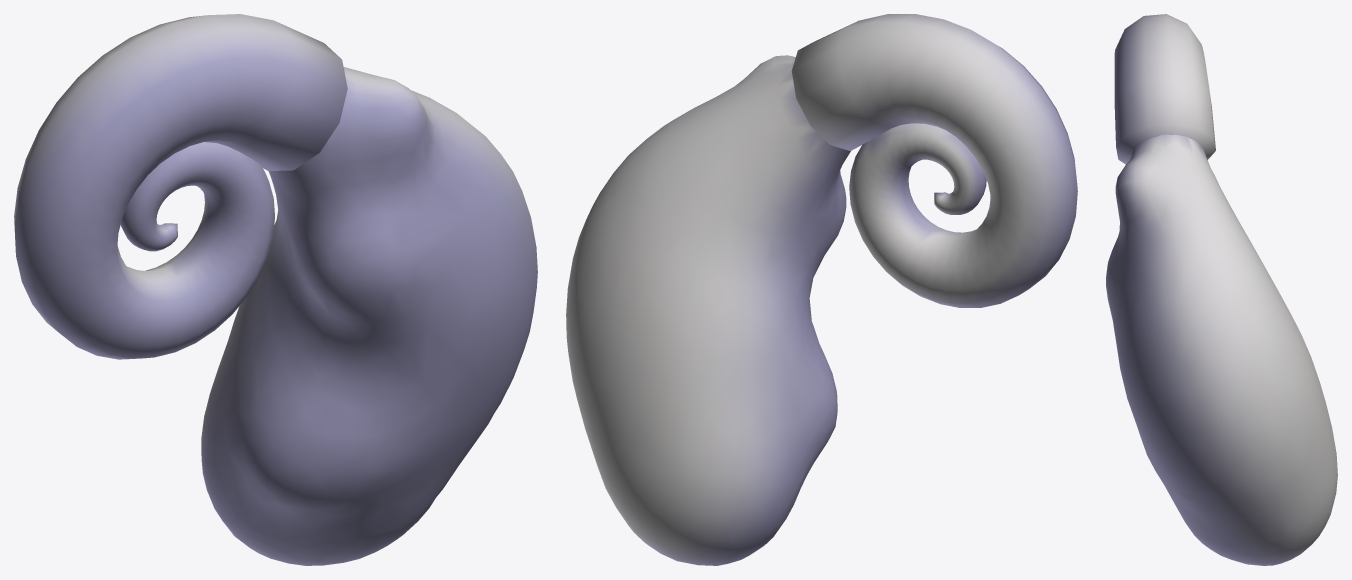
Rendered from gear5_corrente_c.fbx.
The picture shows the model from 3 angles, left to right: view 1: azimuth 30°, elevation 25°; view 2: azimuth 150°, elevation 25°; view 3: azimuth 270°, elevation 25°; orthographic projection. The views are drawn at different scales.
Visible parts, largest first — view 1: gear5_corrente_c; view 2: gear5_corrente_c; view 3: gear5_corrente_c.
Boxes of the visible parts, bbox=[...] form: gear5_corrente_c: bbox=[14, 14, 537, 565]; gear5_corrente_c: bbox=[566, 14, 1077, 565]; gear5_corrente_c: bbox=[1106, 14, 1337, 565].
Size of the model in its own units: 2.34 by 2.61 by 1.19.
